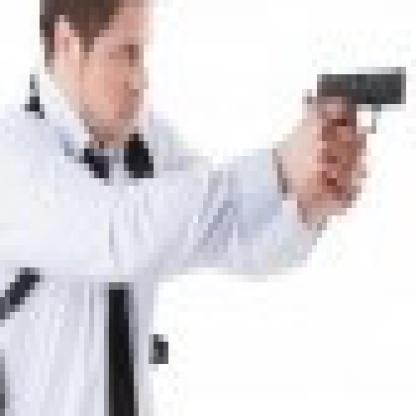gun: (292, 52, 406, 201)
